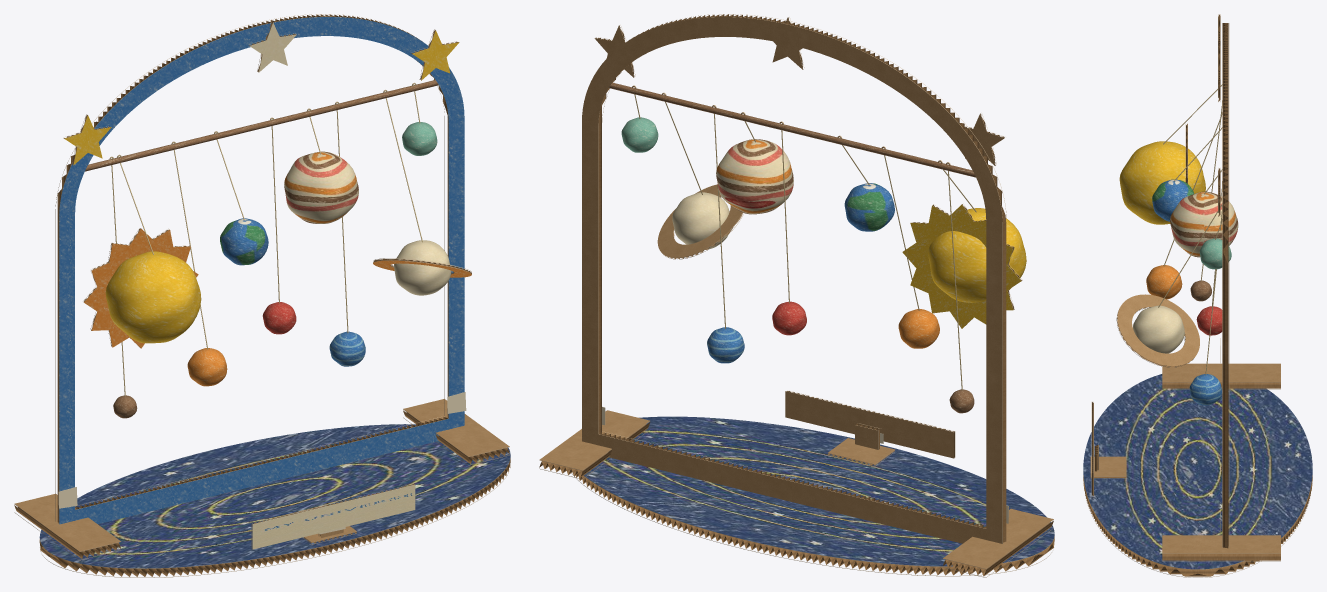
Rendered from 10_pocket_solar_system.glb.
3 views of the same model, side by side, from view 1: azimuth 30°, elevation 25°; view 2: azimuth 150°, elevation 25°; view 3: azimuth 270°, elevation 25° (orthographic). The views are drawn at different scales.
Parts seen in each view (by area): view 1: artwork_10_pocket_solar_system, blue, flute, yellow, kraft, orange, edge, cream, brown, twine, mint, red (+1 smaller); view 2: kraft, artwork_10_pocket_solar_system, flute, yellow, edge, brown, cream, twine, orange, mint, red; view 3: artwork_10_pocket_solar_system, flute, kraft, yellow, edge, cream, twine, orange, mint, red, brown.
Part boxes in pixels (box(x1,y1,x2,y2)): artwork_10_pocket_solar_system: box(39, 151, 510, 568); blue: box(59, 17, 464, 524); flute: box(14, 14, 510, 576); yellow: box(64, 30, 459, 343); kraft: box(14, 399, 509, 551); orange: box(84, 228, 471, 386); edge: box(14, 14, 509, 577); cream: box(250, 22, 451, 295); brown: box(85, 80, 438, 418); twine: box(110, 83, 422, 396); mint: box(402, 122, 437, 155); red: box(262, 302, 296, 334); kraft: box(539, 17, 1053, 568); artwork_10_pocket_solar_system: box(584, 139, 1054, 566); flute: box(539, 14, 1054, 576); yellow: box(902, 204, 1026, 328); edge: box(539, 14, 1053, 577); brown: box(609, 82, 975, 413); cream: box(672, 192, 729, 249); twine: box(634, 94, 976, 390); orange: box(898, 309, 939, 348); mint: box(621, 117, 658, 152); red: box(772, 301, 806, 335); artwork_10_pocket_solar_system: box(1083, 179, 1312, 569); flute: box(1083, 14, 1312, 576); kraft: box(1090, 294, 1280, 553); yellow: box(1119, 141, 1205, 224); edge: box(1088, 14, 1307, 577); cream: box(1133, 305, 1184, 353); twine: box(1158, 84, 1222, 375); orange: box(1146, 265, 1182, 299); mint: box(1199, 238, 1231, 269); red: box(1196, 306, 1222, 335); brown: box(1190, 280, 1211, 301).
Size of the model in its own units: 0.6 by 0.598 by 0.29.
Materials: 13 (11 with a texture image).
